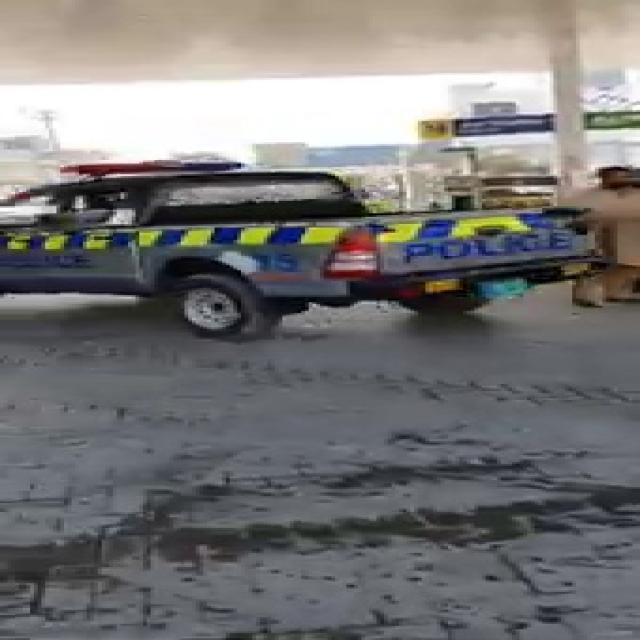police: (0, 155, 570, 336)
